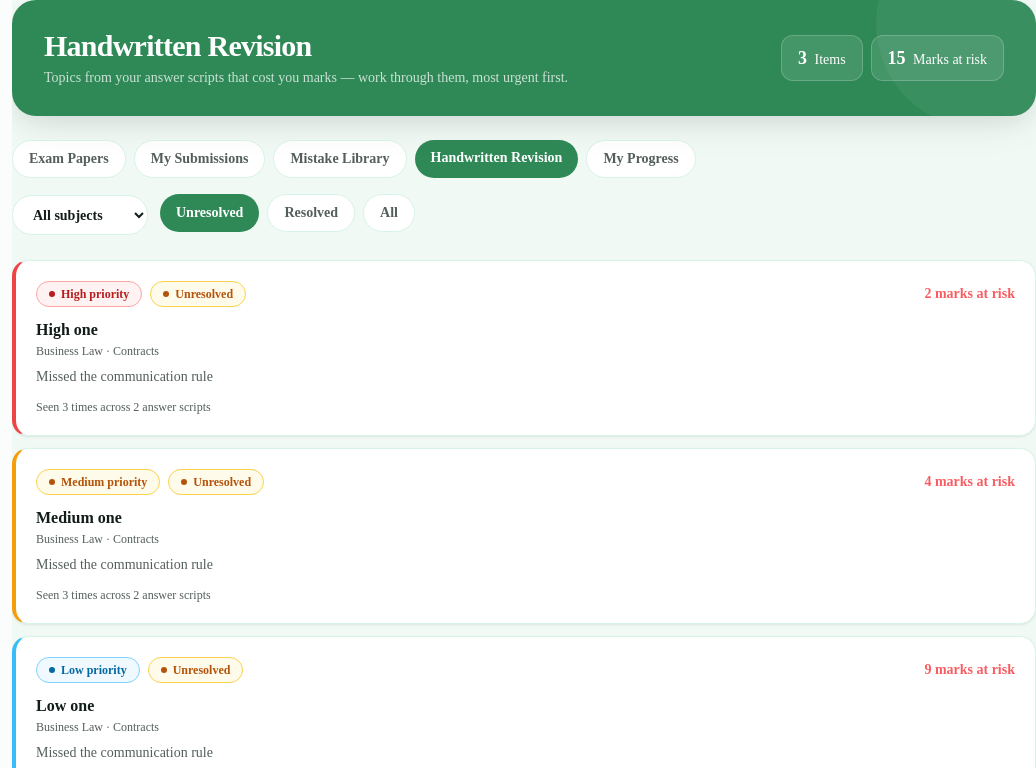
it: HandwrittenRevision › shows both states under All
The image size is (1036, 768).
Expected: the heading "High one" is shown, [36, 321, 98, 338]
What coordinates should you click on to do the following:
click the button "All"
I would click on:
 (389, 213)
Its box is [363, 194, 415, 232].
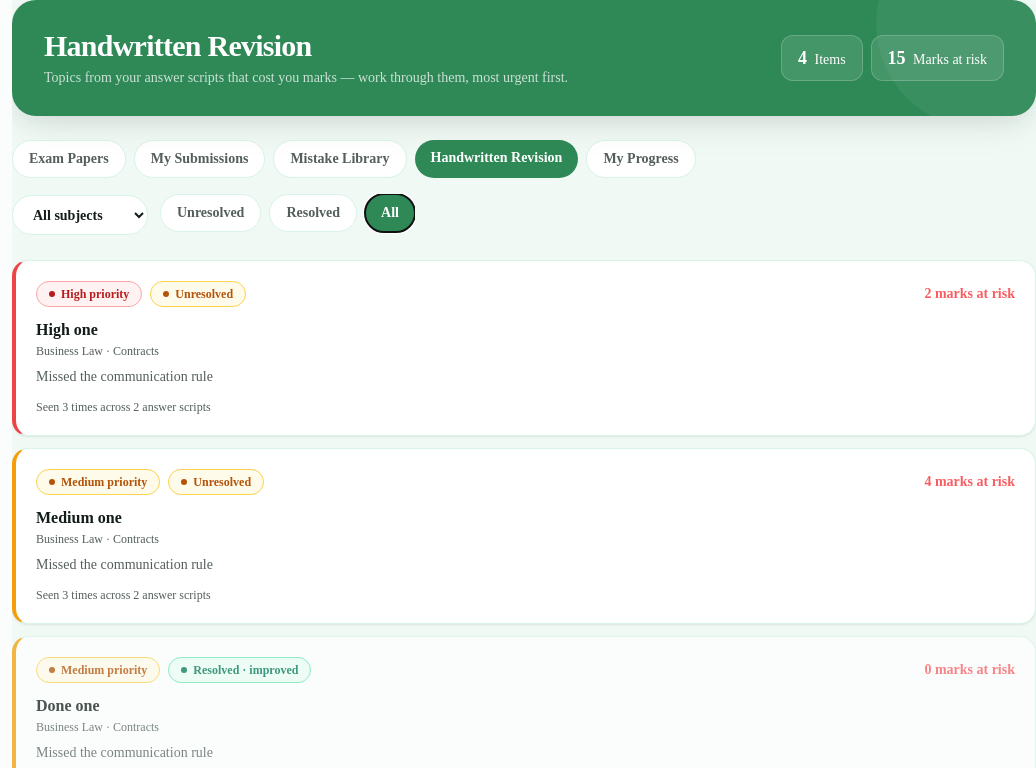
Expected: the heading "High one" is shown, [36, 321, 98, 338]
Now the heading "Done one" is shown, box [36, 697, 100, 714]
